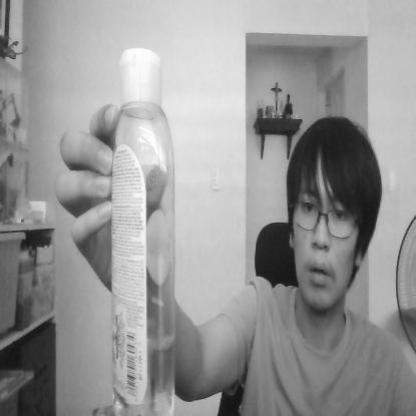Plastic Bottle: (103, 37, 179, 416)
